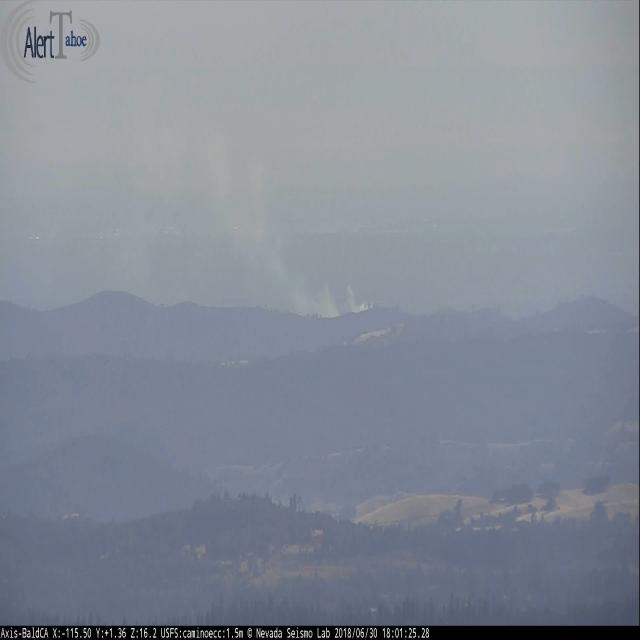smoke: (301, 284, 376, 314)
